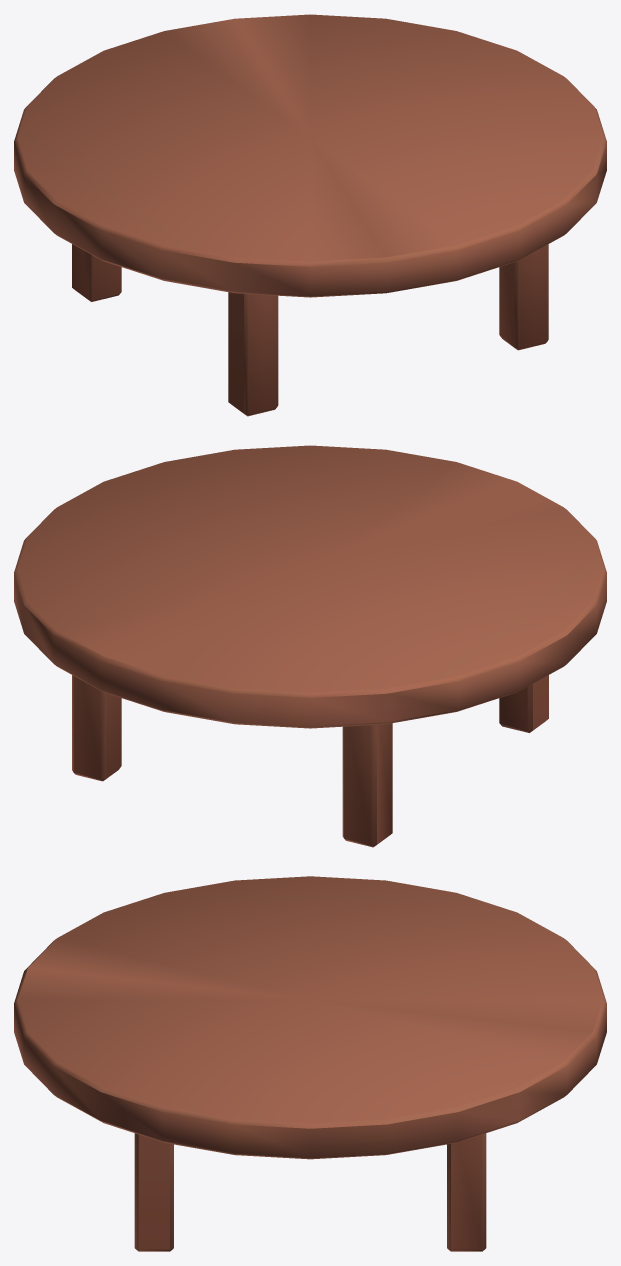
The model's file is kaykit-restaurant-bits-table-round-b.glb.
3 renders of one model, top to bottom at view 1: azimuth 30°, elevation 25°; view 2: azimuth 150°, elevation 25°; view 3: azimuth 270°, elevation 25°, orthographic.
Parts seen in each view (by area): view 1: table_round_B; view 2: table_round_B; view 3: table_round_B.
Part boxes in pixels (x1,y1,x2,y2): table_round_B: (14,14,606,416); table_round_B: (14,445,606,847); table_round_B: (14,876,606,1251).
Bounding box in the file's own units: 3 × 0.9999 × 3.
1 material, 1 textured.
